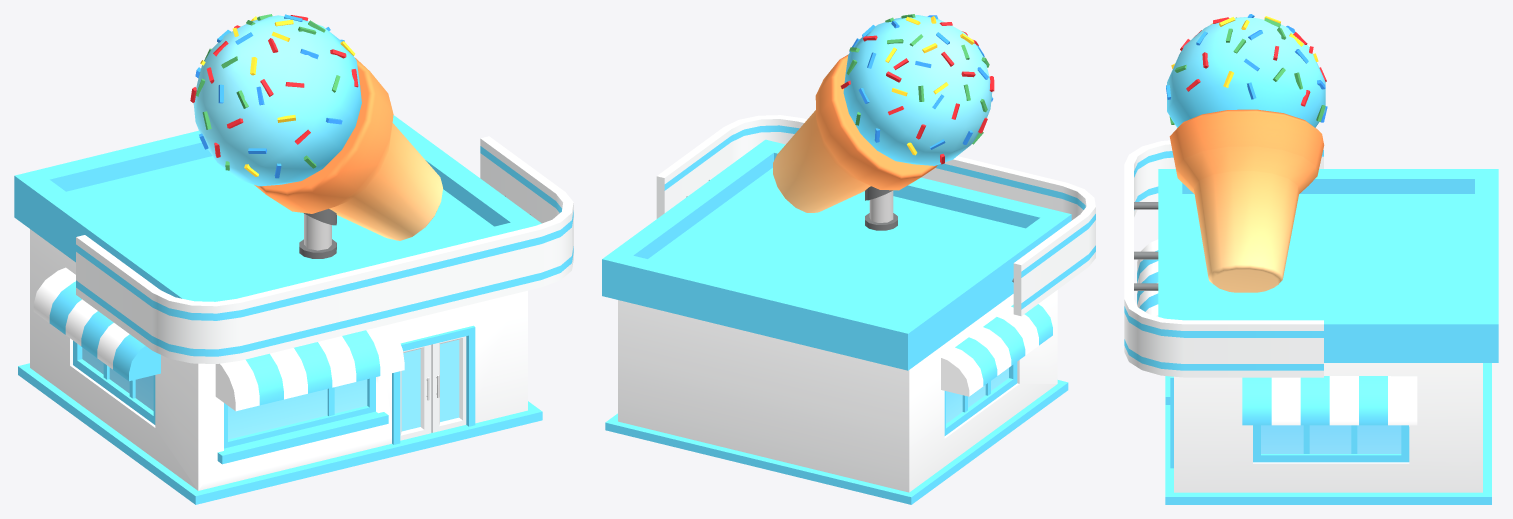
The model's file is city2-building-snack-01.glb.
3 renders of one model, left to right at view 1: azimuth 30°, elevation 25°; view 2: azimuth 150°, elevation 25°; view 3: azimuth 270°, elevation 25°, orthographic. The views are drawn at different scales.
Parts seen in each view (by area): view 1: Building_Snack_01; view 2: Building_Snack_01; view 3: Building_Snack_01.
Boxes of the visible parts, x1,y1,x2,y2 form: Building_Snack_01: [14, 14, 573, 504]; Building_Snack_01: [602, 14, 1095, 504]; Building_Snack_01: [1124, 14, 1498, 504].
Bounding box in the file's own units: 10.13 × 9.84 × 8.65.
1 material, 1 textured.
